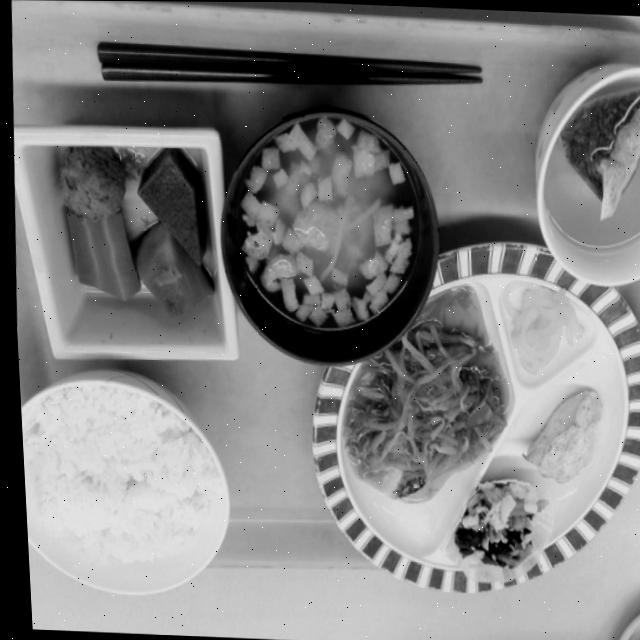米饭主食: (15, 370, 235, 601)
